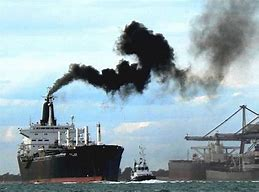smoke: (43, 20, 194, 100)
